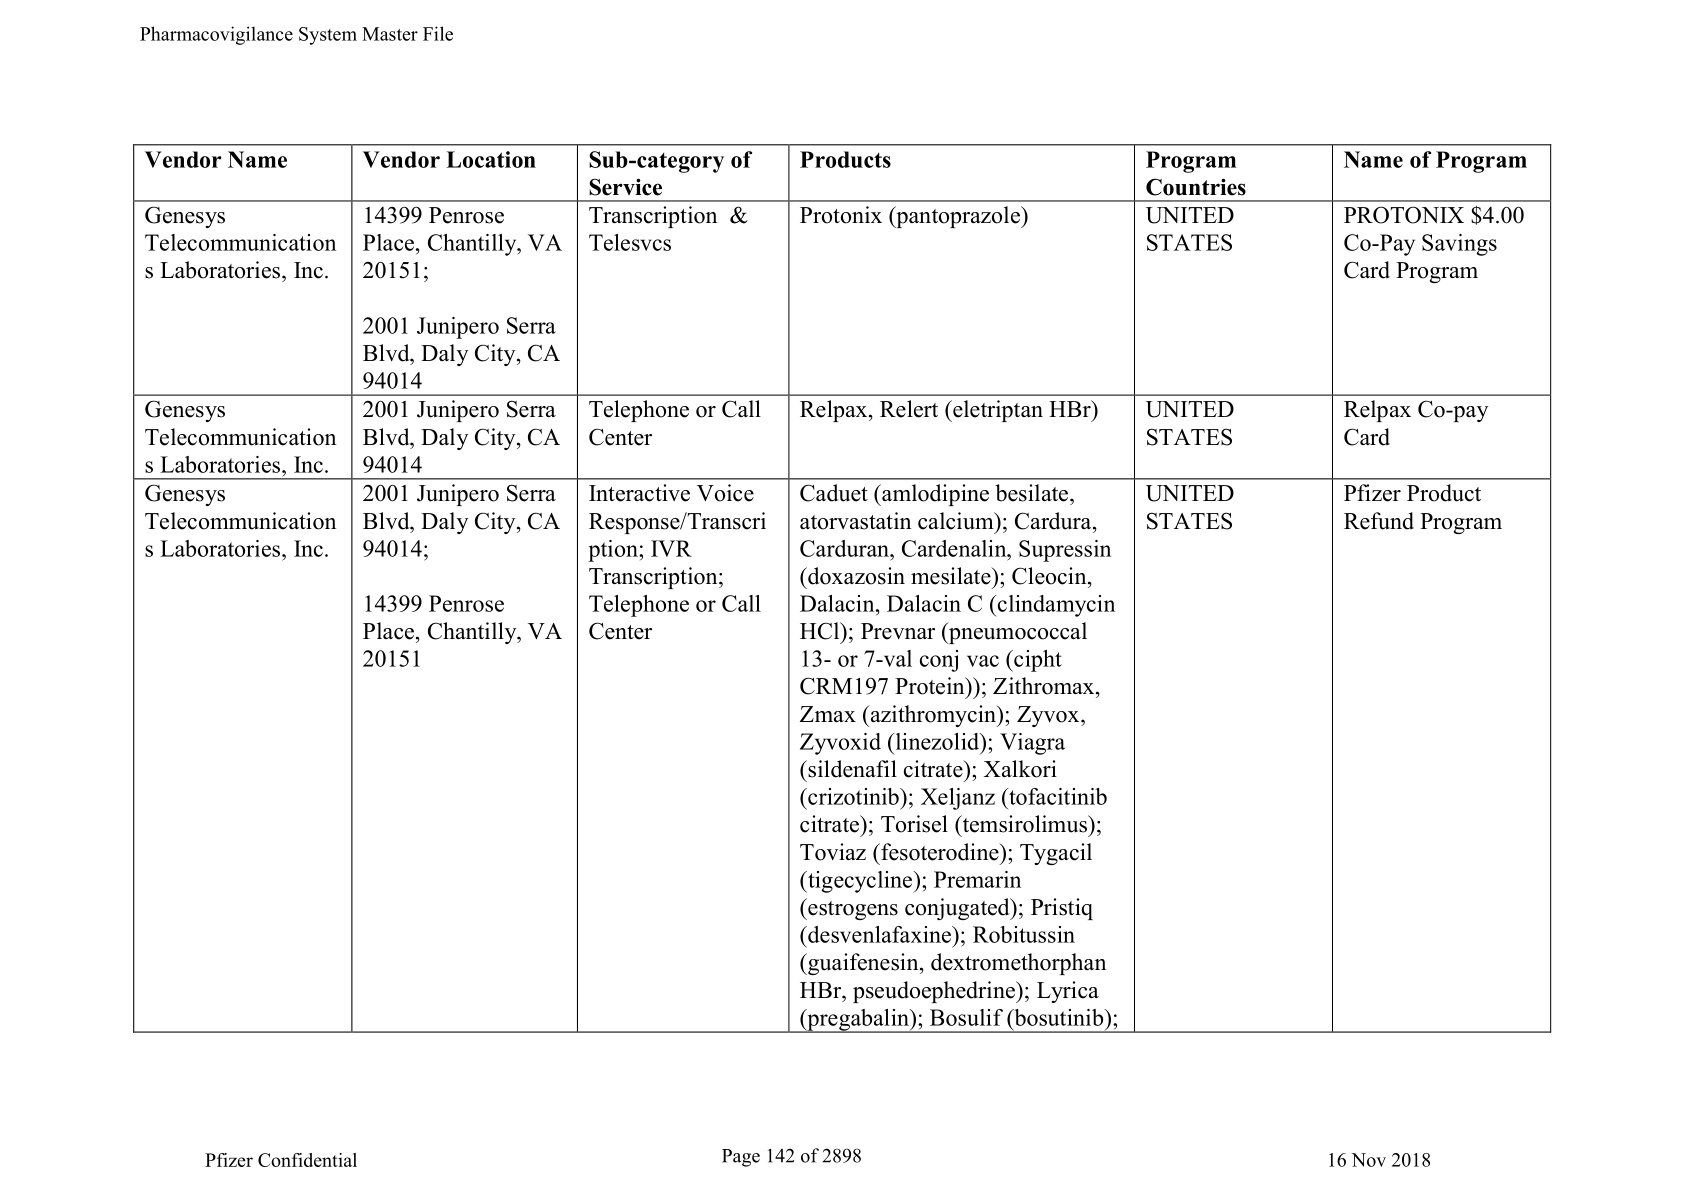full_lined: (131, 144, 1552, 1034)
